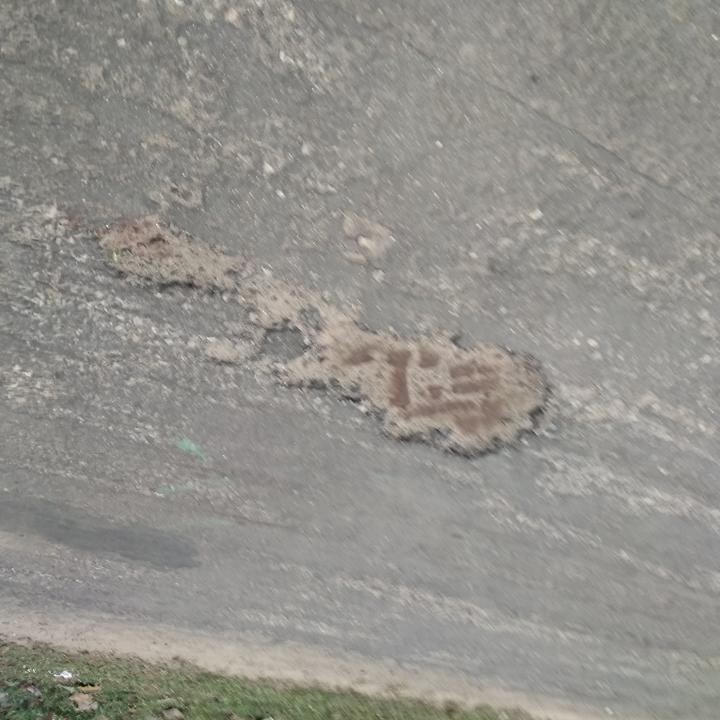pothole: (248, 276, 560, 467), (89, 214, 248, 302)
